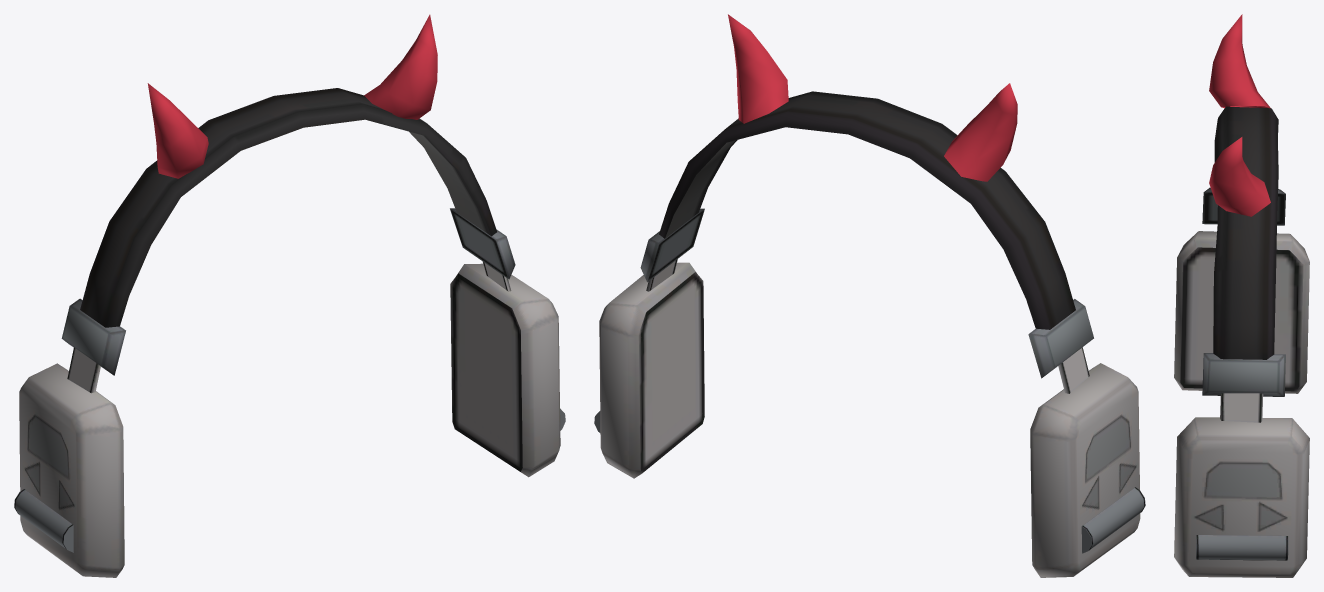
File: _headwear_017.fbx
The picture shows the model from 3 angles, left to right: view 1: azimuth 30°, elevation 25°; view 2: azimuth 150°, elevation 25°; view 3: azimuth 270°, elevation 25°; orthographic projection. The views are drawn at different scales.
Parts seen in each view (by area): view 1: f_headwear_017; view 2: f_headwear_017; view 3: f_headwear_017.
Part boxes in pixels (x1,y1,x2,y2): f_headwear_017: (14,14,565,577); f_headwear_017: (594,14,1145,577); f_headwear_017: (1174,14,1309,577).
Size of the model in its own units: 23.02 by 20.03 by 6.06.
